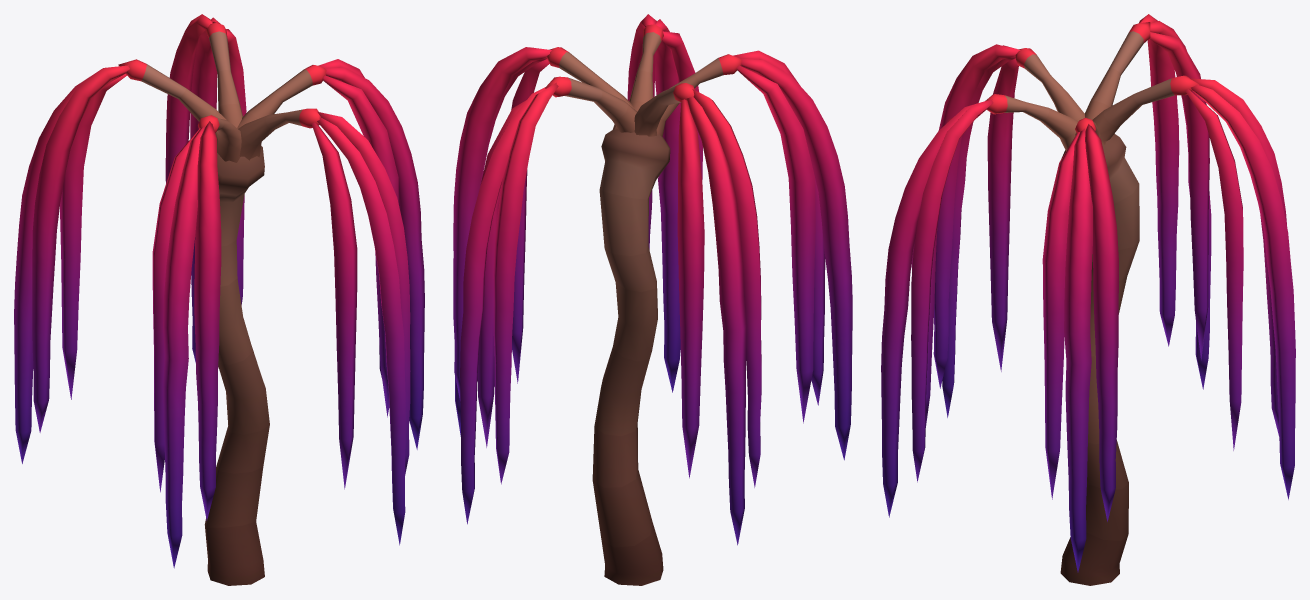
Rendered from Capsule_contents_012.fbx.
The picture shows the model from 3 angles, left to right: view 1: azimuth 30°, elevation 25°; view 2: azimuth 150°, elevation 25°; view 3: azimuth 270°, elevation 25°; orthographic projection. The views are drawn at different scales.
Visible parts, largest first — view 1: Сapsule_contents_012; view 2: Сapsule_contents_012; view 3: Сapsule_contents_012.
Boxes of the visible parts, x1,y1,x2,y2 form: Сapsule_contents_012: (14,14,424,585); Сapsule_contents_012: (453,14,852,585); Сapsule_contents_012: (881,14,1295,585).
Size of the model in its own units: 127 by 132 by 180.
